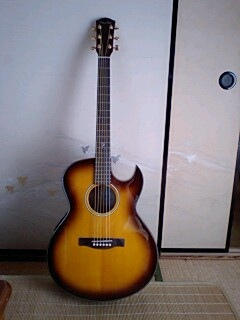guitar: (44, 16, 159, 302)
